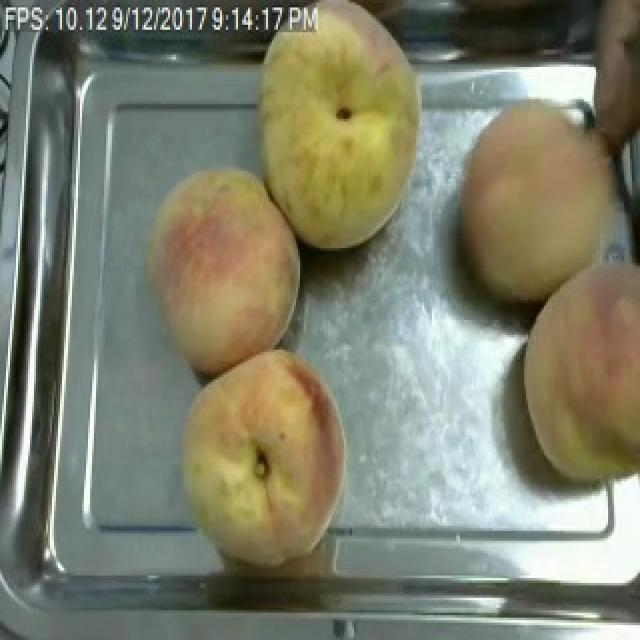Fruit: (240, 0, 434, 258), (442, 84, 640, 325), (172, 342, 360, 573), (136, 156, 310, 382), (508, 238, 640, 494)
